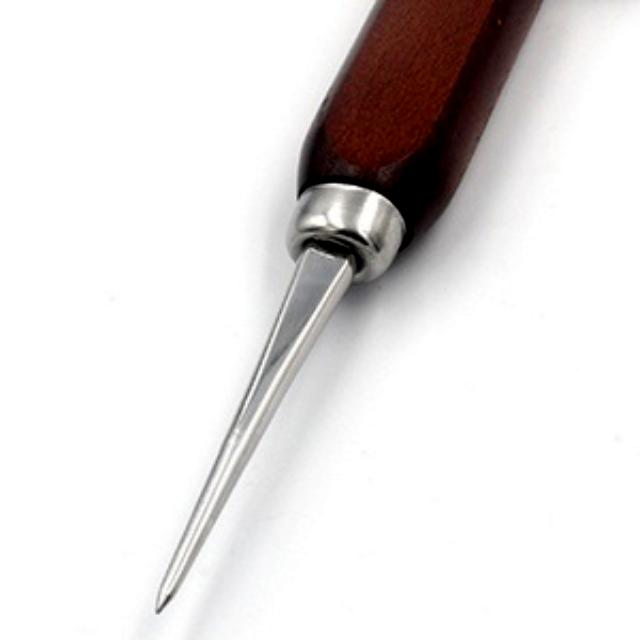ice pick: (155, 0, 542, 616)
